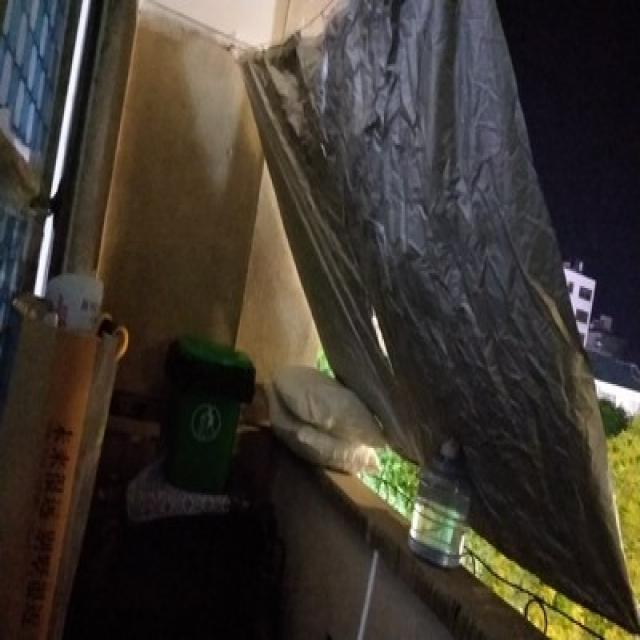ash bin: (160, 331, 253, 486)
